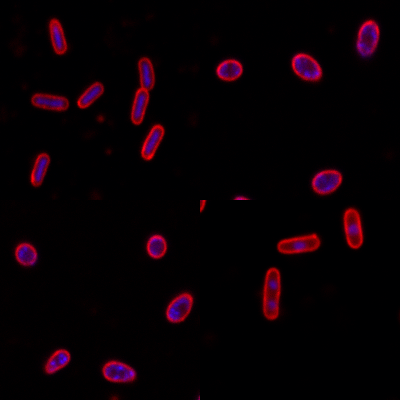CAM: (262, 265, 283, 320), (274, 233, 320, 255), (342, 207, 364, 250)
MP265: (164, 292, 194, 325), (100, 358, 138, 384), (146, 234, 167, 259)
Mecillinam: (291, 52, 323, 82), (310, 168, 343, 195), (214, 57, 243, 82)
Oblique: (356, 18, 381, 57), (43, 347, 73, 374), (13, 241, 38, 267)
Rifampicin: (129, 56, 156, 125), (139, 124, 166, 160), (46, 18, 68, 55), (29, 151, 51, 188), (77, 82, 105, 110), (30, 92, 71, 111)
Vesicle: (93, 110, 107, 124)
